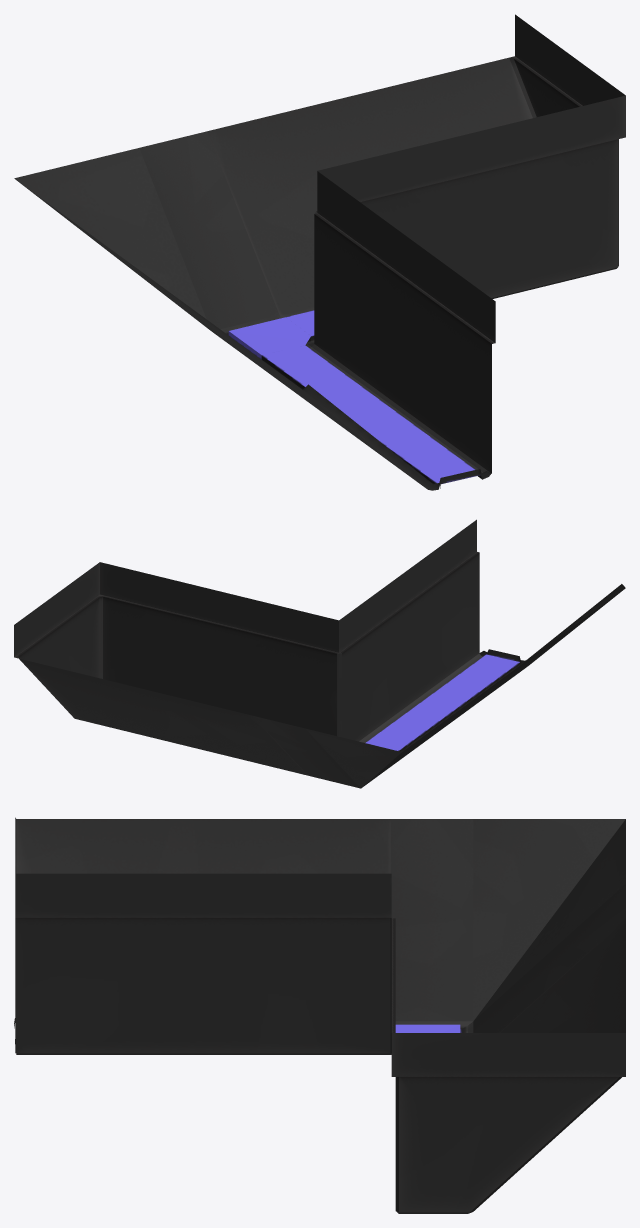
File: na_neomu_himdeuler.fbx
3 renders of one model, top to bottom at view 1: azimuth 30°, elevation 25°; view 2: azimuth 150°, elevation 25°; view 3: azimuth 270°, elevation 25°, orthographic. The views are drawn at different scales.
Parts seen in each view (by area): view 1: Object030; view 2: Object030; view 3: Object030.
Part boxes in pixels (<box>): Object030: <box>14,14,625,490</box>; Object030: <box>14,519,625,788</box>; Object030: <box>14,817,625,1213</box>.
Bounding box in the file's own units: 128 × 42.83 × 128.
